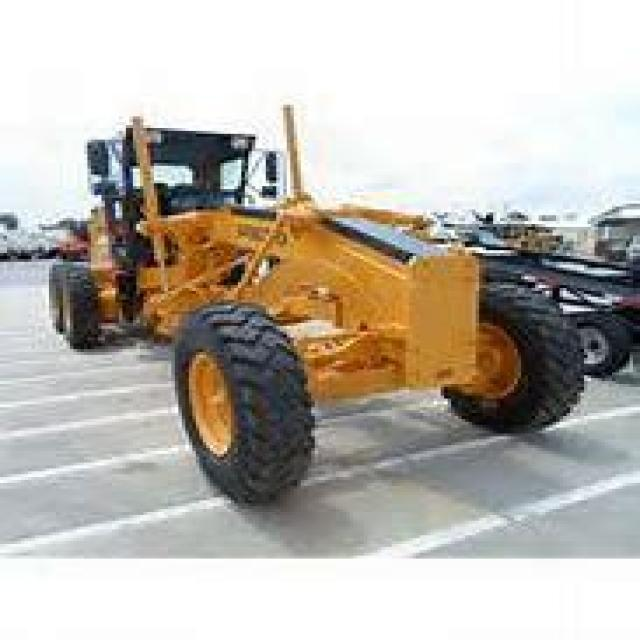Grader: (28, 90, 577, 500)
